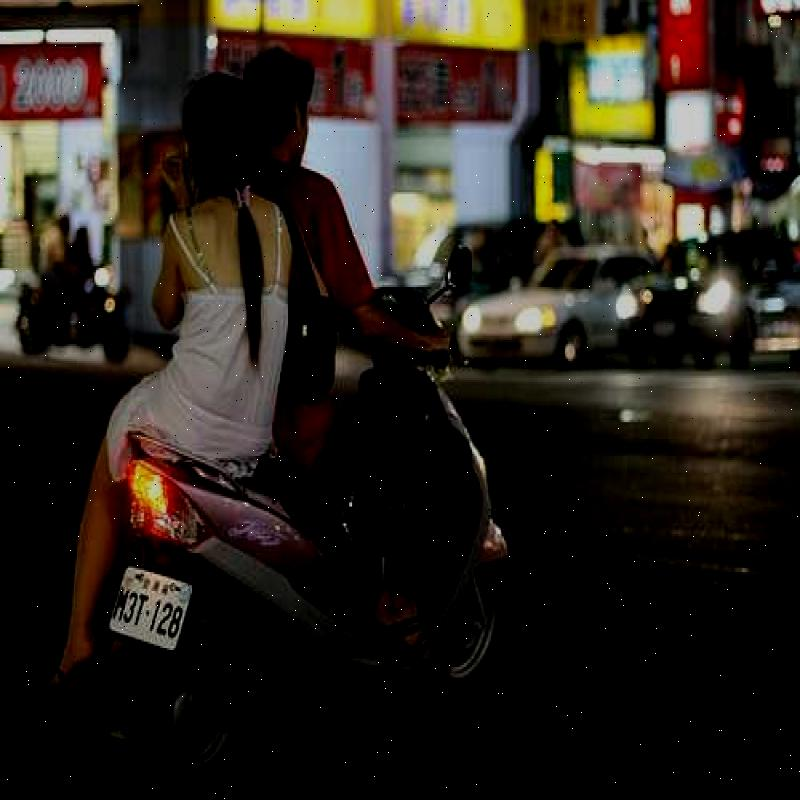bike: (133, 262, 500, 733)
